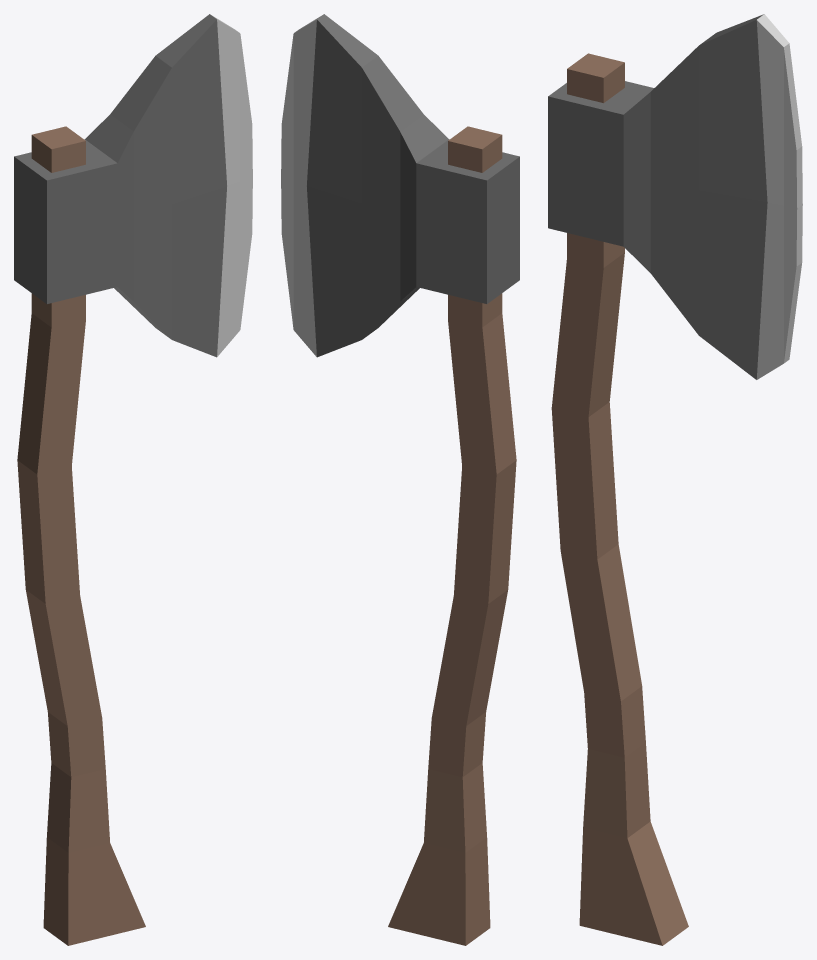
The model's file is LowPolyAxe.fbx.
The picture shows the model from 3 angles, left to right: view 1: azimuth 30°, elevation 25°; view 2: azimuth 150°, elevation 25°; view 3: azimuth 330°, elevation 25°; orthographic projection. The views are drawn at different scales.
Visible parts, largest first — view 1: Cube; view 2: Cube; view 3: Cube.
Part boxes in pixels (x1,y1,x2,y2): Cube: (14, 14, 252, 945); Cube: (281, 14, 519, 945); Cube: (548, 14, 802, 945).
Bounding box in the file's own units: 31.05 × 117 × 7.92.
